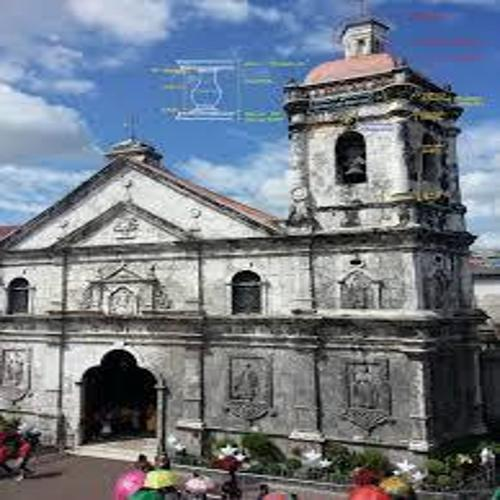Sto. Nino Basilica Church: (3, 3, 494, 475)
